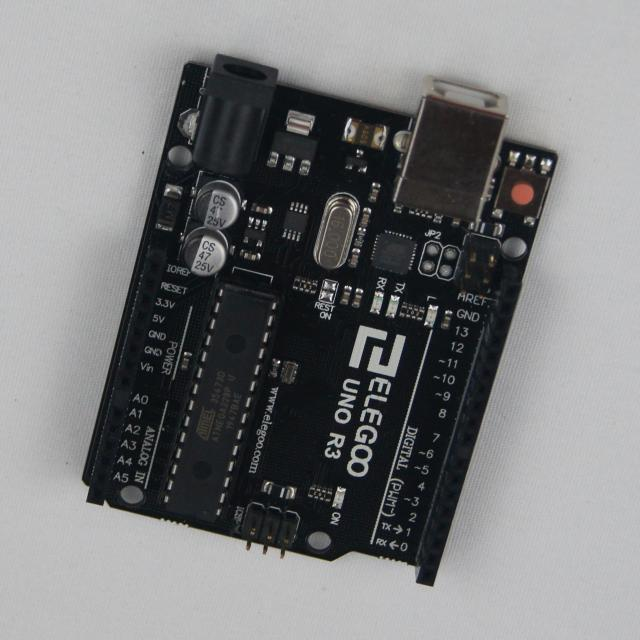Arduino Uno -Black-: (84, 56, 557, 586)
